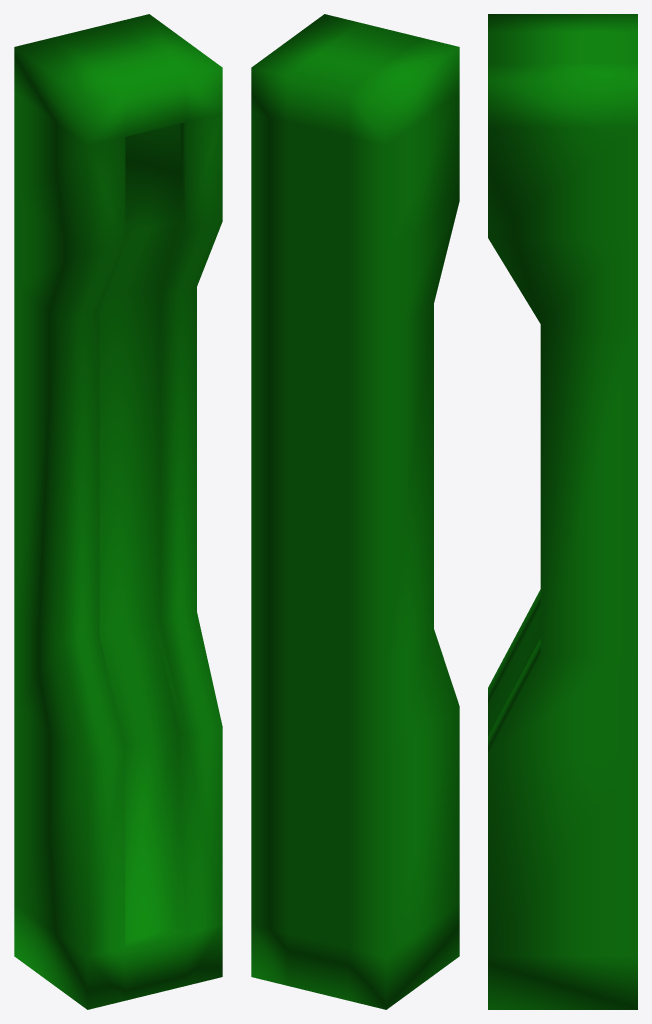
Rendered from Embellecedor.FBX.
3 renders of one model, left to right at view 1: azimuth 30°, elevation 25°; view 2: azimuth 150°, elevation 25°; view 3: azimuth 270°, elevation 25°, orthographic. The views are drawn at different scales.
Visible parts, largest first — view 1: Embellecedor_LP; view 2: Embellecedor_LP; view 3: Embellecedor_LP.
Boxes of the visible parts, x1,y1,x2,y2 form: Embellecedor_LP: (14,14,222,1009); Embellecedor_LP: (251,14,459,1009); Embellecedor_LP: (488,14,637,1009).
Bounding box in the file's own units: 0.5319 × 3.42 × 0.5.
